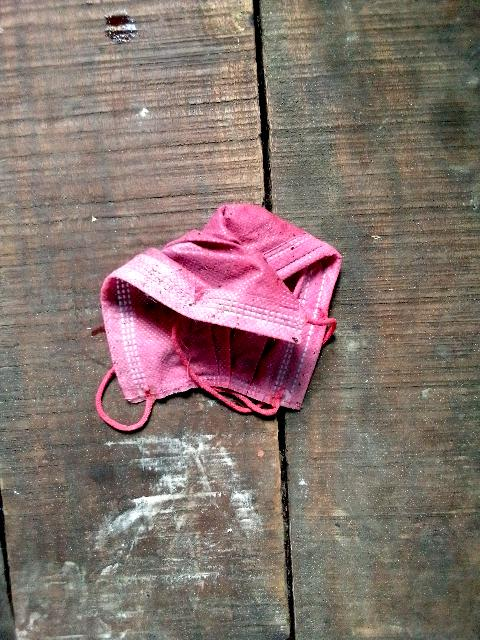mask: (98, 205, 349, 413)
